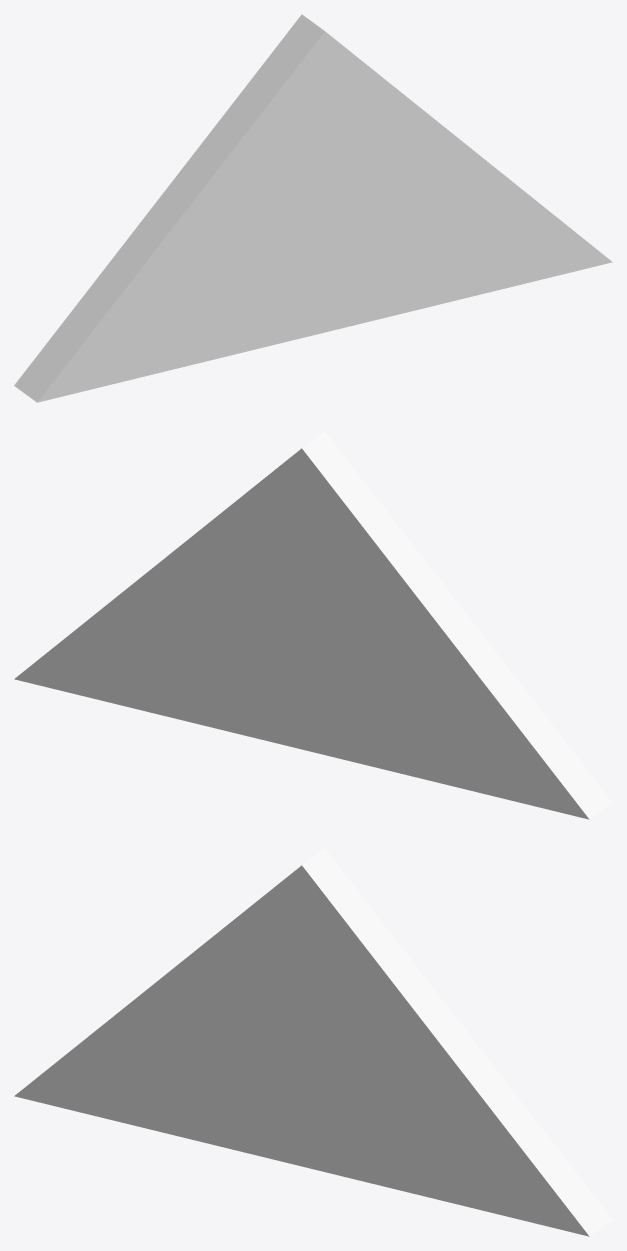
File: ROOF_small_triangle_up_1.glb
3 views of the same model, one above another, from view 1: azimuth 30°, elevation 25°; view 2: azimuth 150°, elevation 25°; view 3: azimuth 330°, elevation 25° (orthographic).
Visible parts, largest first — view 1: ROOF_small_triangle_up_1; view 2: ROOF_small_triangle_up_1; view 3: ROOF_small_triangle_up_1.
Part boxes in pixels (x1,y1,x2,y2): ROOF_small_triangle_up_1: [14, 14, 612, 402]; ROOF_small_triangle_up_1: [14, 431, 612, 819]; ROOF_small_triangle_up_1: [14, 848, 612, 1236].
Bounding box in the file's own units: 1 × 0.5 × 0.07.
Materials: 1 (1 with a texture image).
